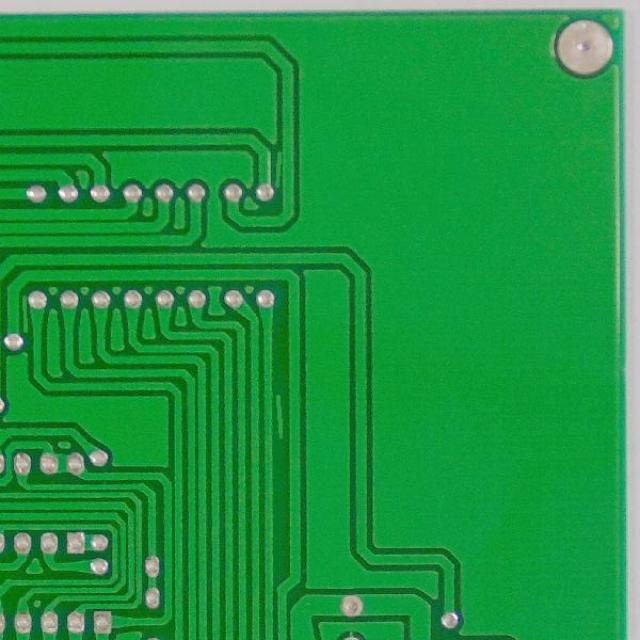Spurious_Cooper: (271, 389, 285, 442), (272, 146, 284, 189)
